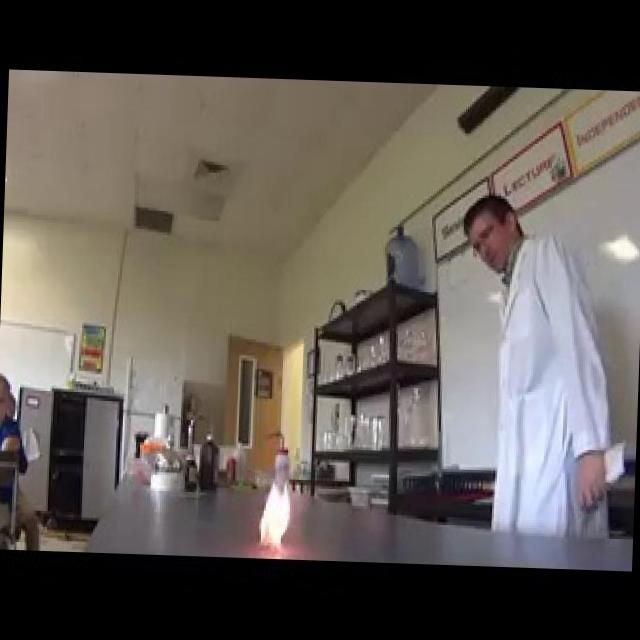Fire: (249, 434, 307, 552)
